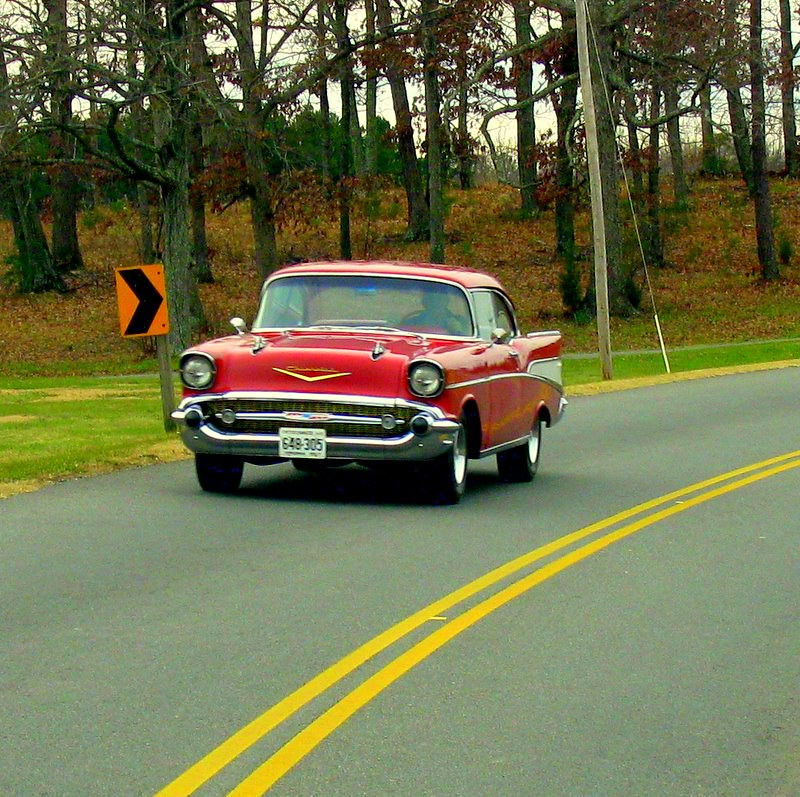car: (169, 241, 580, 512)
